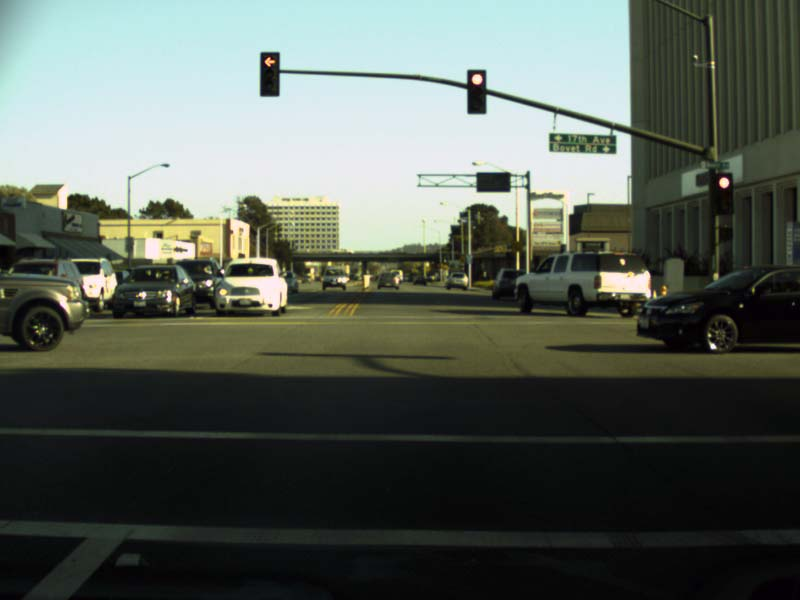Red: (259, 51, 280, 97), (711, 172, 733, 215), (466, 69, 486, 114)
